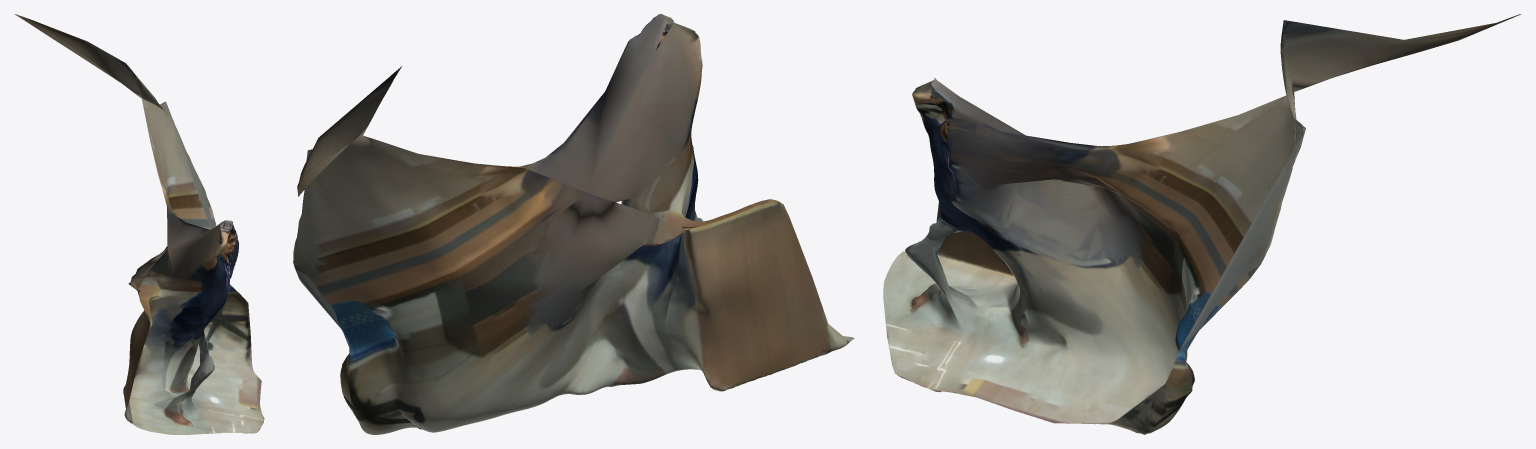
File: survey_20260930145709_.glb
The picture shows the model from 3 angles, left to right: view 1: azimuth 30°, elevation 25°; view 2: azimuth 150°, elevation 25°; view 3: azimuth 270°, elevation 25°; orthographic projection. The views are drawn at different scales.
Visible parts, largest first — view 1: 3DModel; view 2: 3DModel; view 3: 3DModel.
Part boxes in pixels (x1,y1,x2,y2): 3DModel: [15, 14, 264, 434]; 3DModel: [293, 14, 854, 434]; 3DModel: [883, 14, 1520, 434].
Bounding box in the file's own units: 1.2 × 1.48 × 2.32.
Materials: 1 (1 with a texture image).
